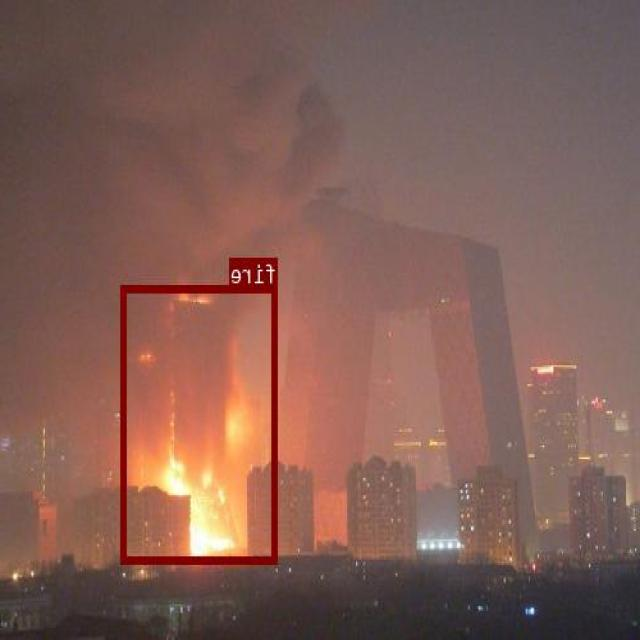fire: (122, 284, 278, 562)
